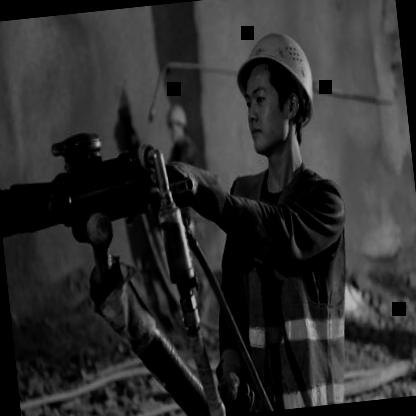helmet: (221, 14, 326, 176), (160, 98, 192, 150)
